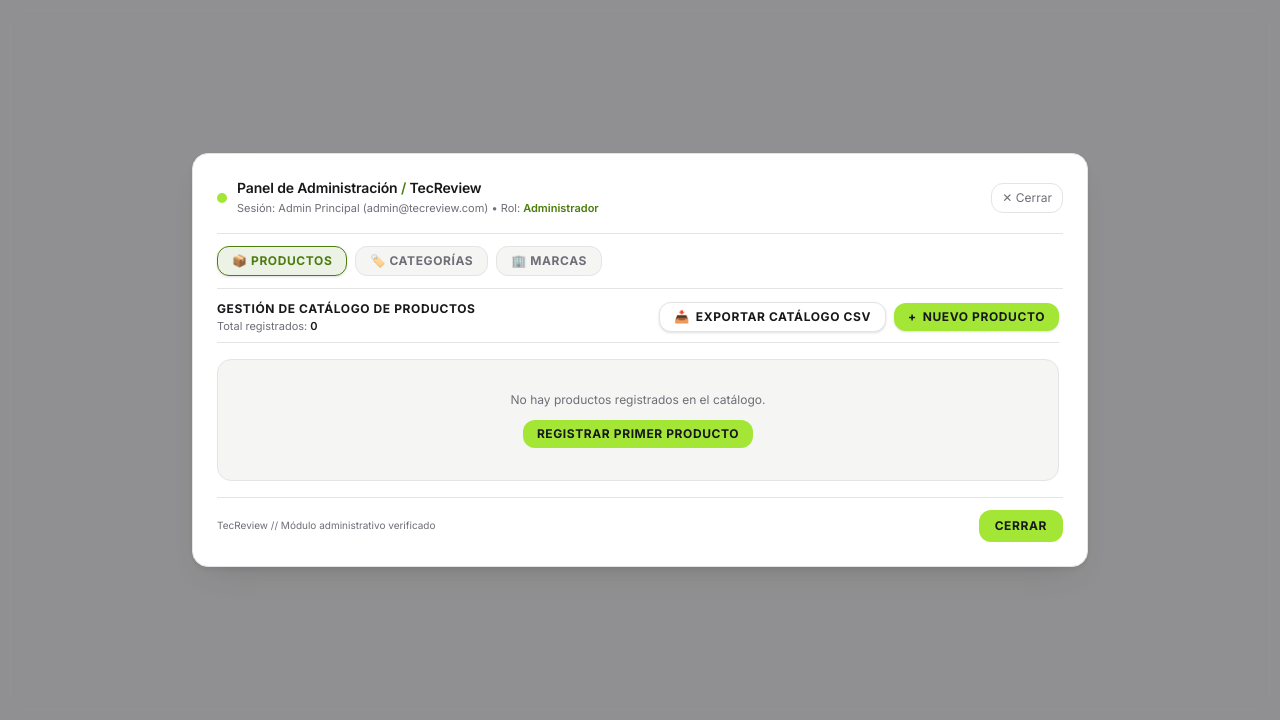
it: AdminPanelModal - CRUD Integral (Fase 3.3) › Gestión CRUD de Marcas (Paso 3) › debe cargar y listar las marcas activas correctamente
Click the tab "🏢 Marcas" at point(549, 261), box [496,246,602,276]
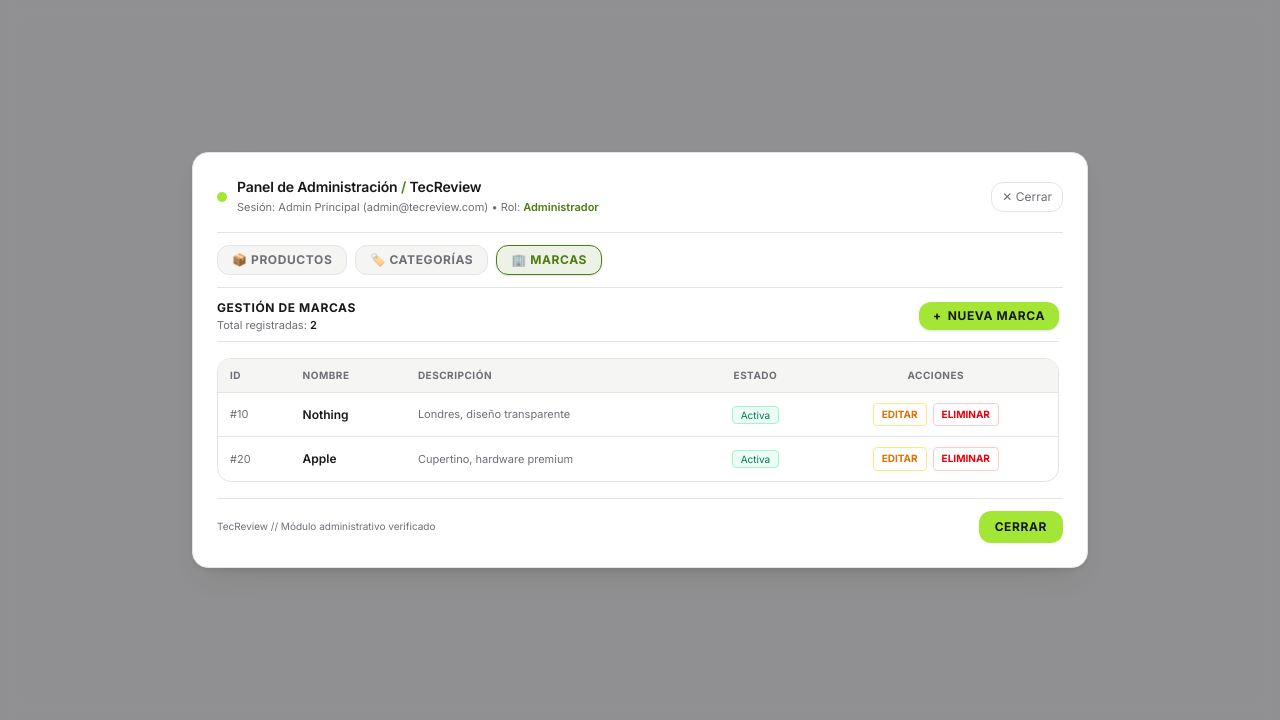
Expected: the text "Nothing" is shown, [291,392,406,437]
Expected: the text "Apple" is shown, [291,437,406,480]
Expected: the text "#10" is shown, [218,392,291,437]
